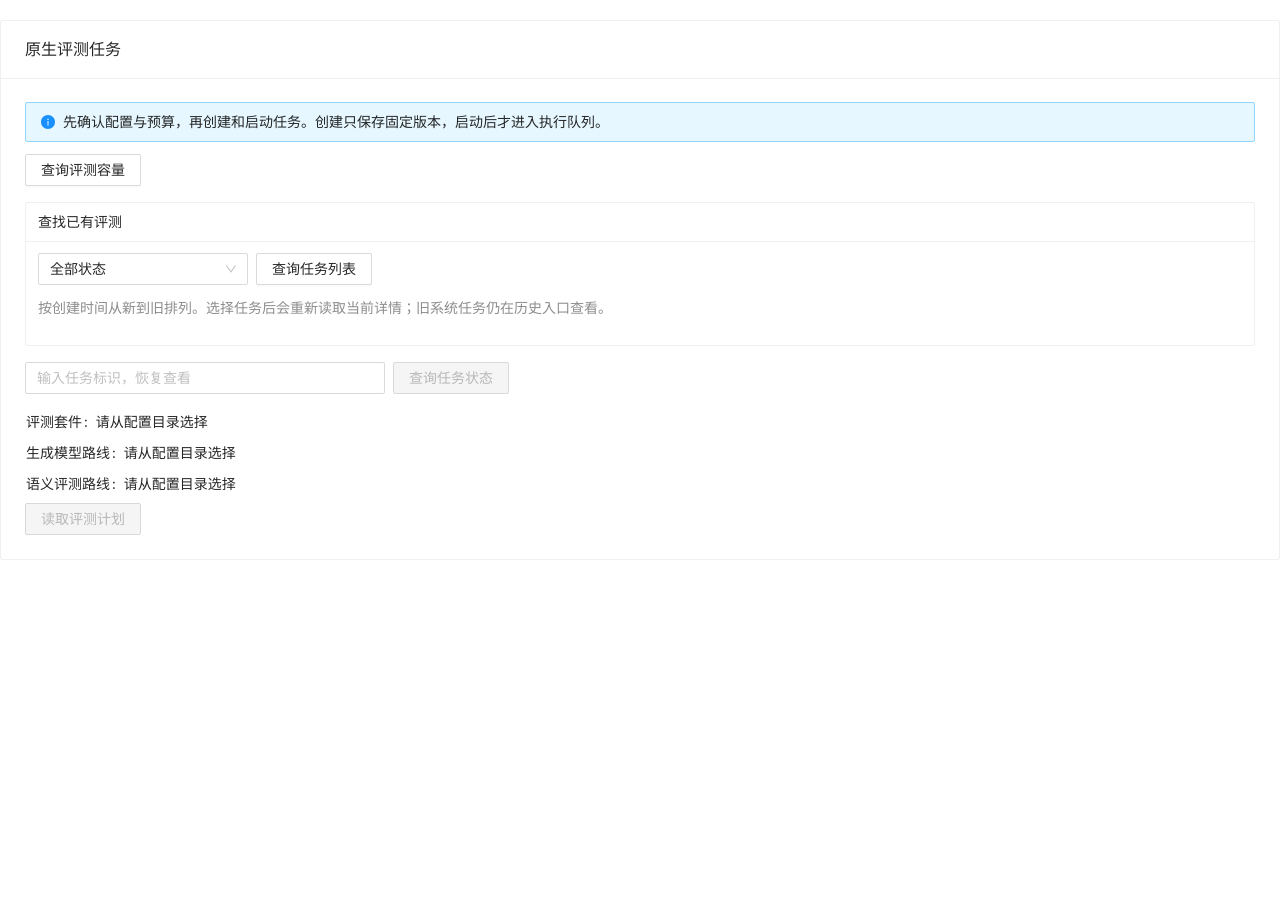
Test case: reads older server state without enabling Start or inventing creation evidence
In the field named "评测任务标识": (205, 378) x1=25 y1=362 x2=385 y2=394, type "44444444-4444-4444-8444-444444444444"
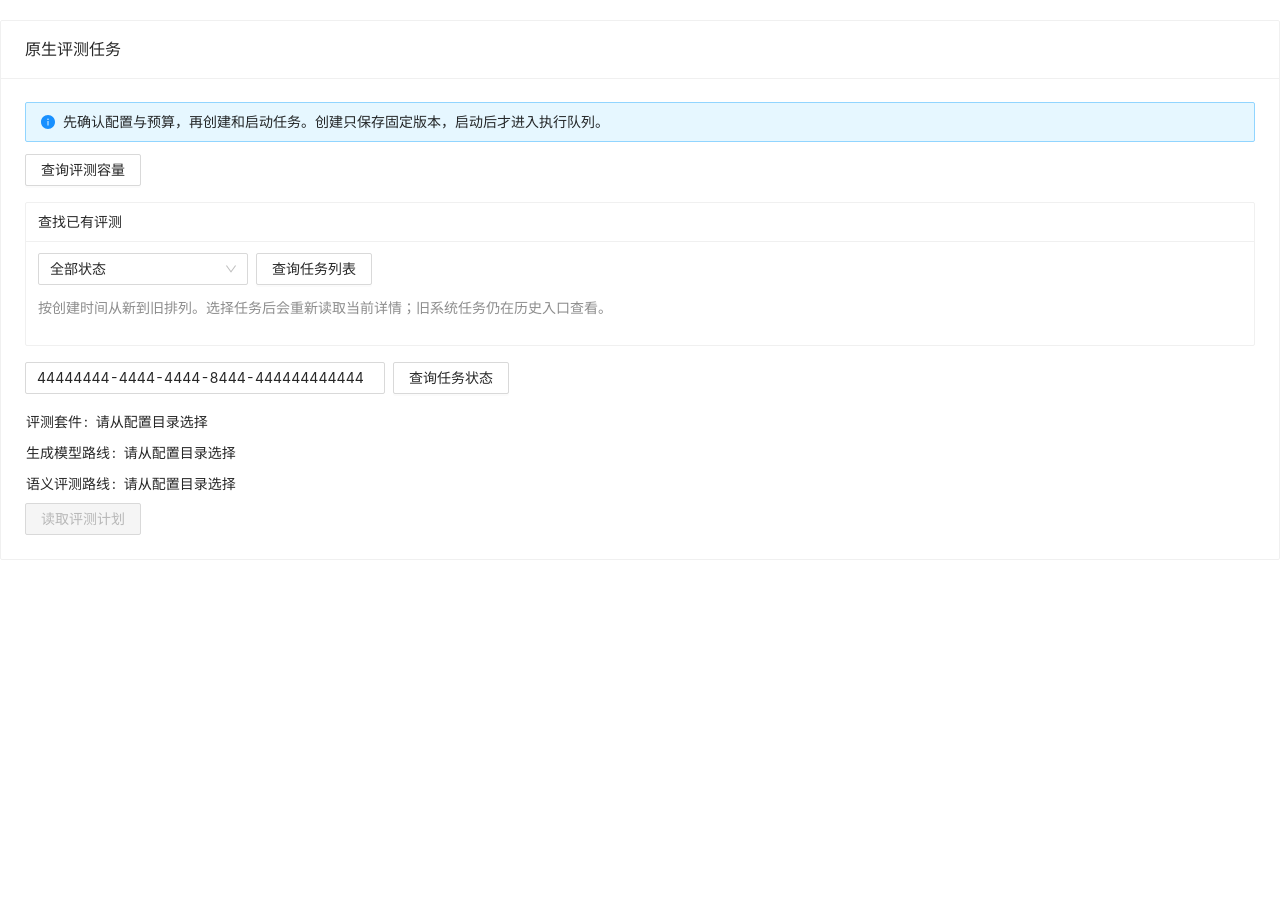
Click the button "查询任务状态": (451, 378) x1=393 y1=362 x2=509 y2=394
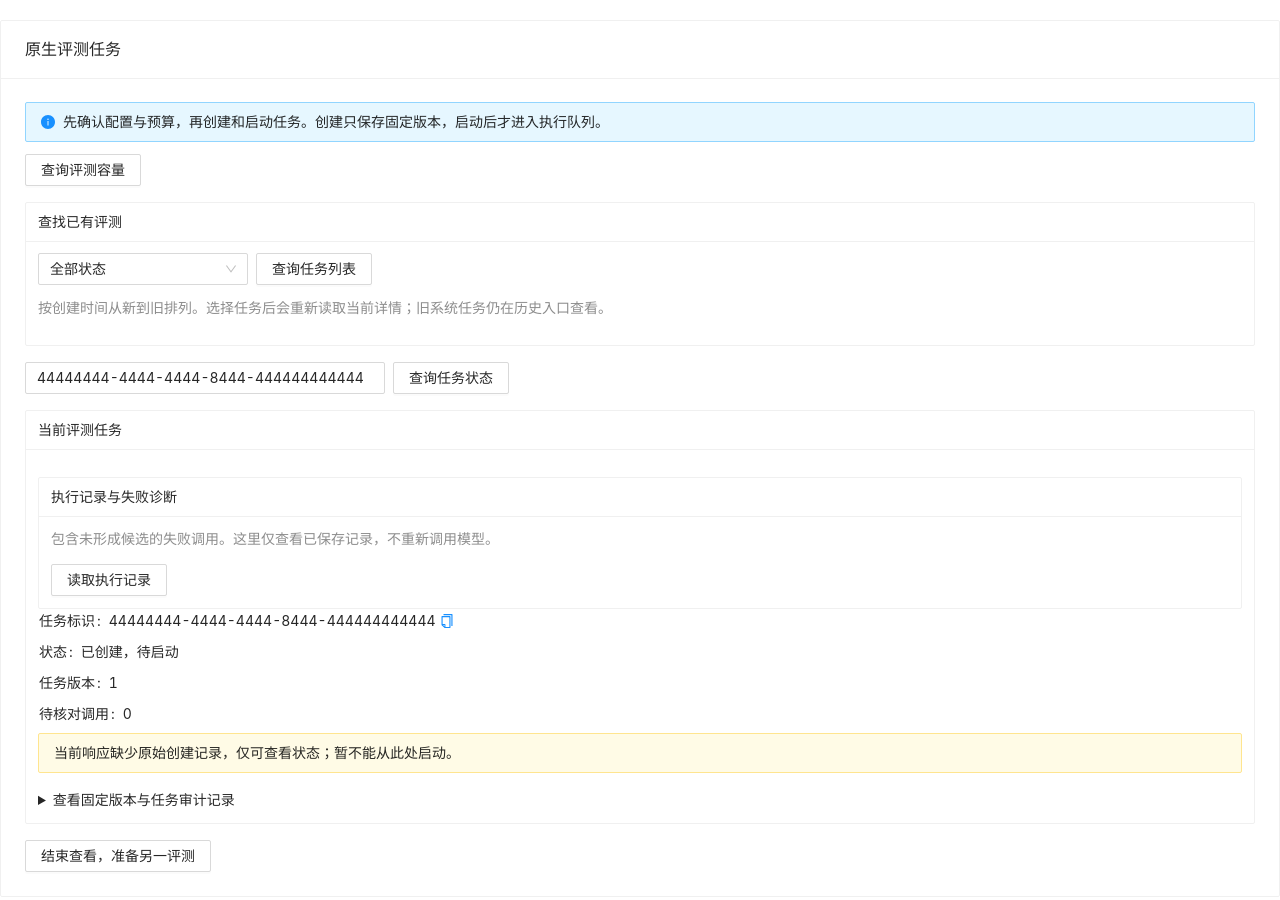
Check: the text "当前响应缺少原始创建记录，仅可查看状态；暂不能从此处启动。" is shown, box x1=54 y1=744 x2=460 y2=761
